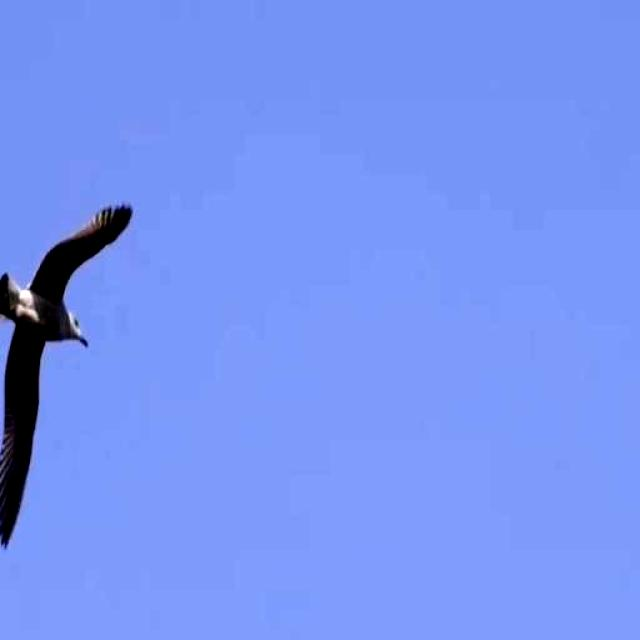airplane: (0, 190, 146, 552)
